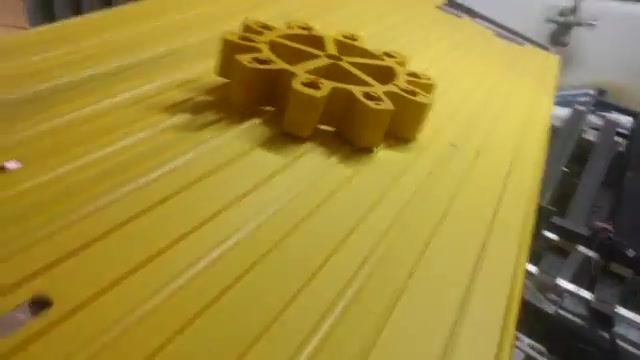gear: (212, 1, 440, 169)
